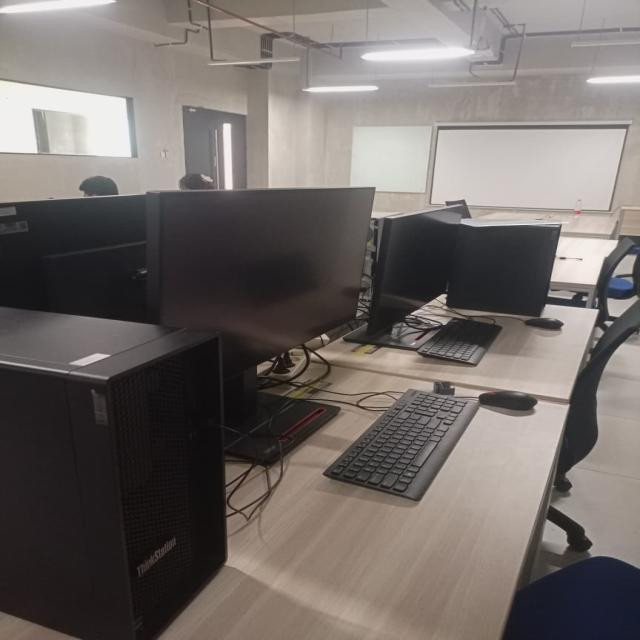keyboard: (317, 382, 480, 506), (419, 314, 504, 368)
monitor: (137, 182, 373, 380), (374, 208, 466, 320)
mouse: (475, 388, 549, 418), (522, 316, 579, 336)
pc: (0, 299, 242, 640), (464, 218, 566, 318)
